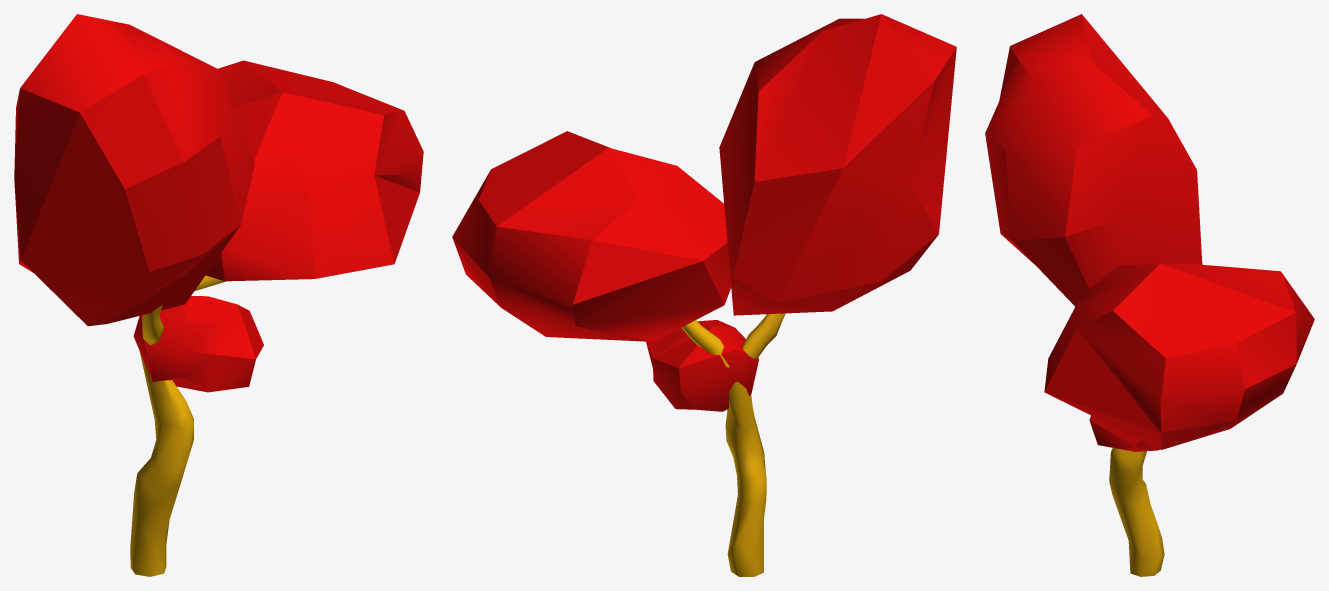
The model's file is Tree_1.fbx.
The picture shows the model from 3 angles, left to right: view 1: azimuth 30°, elevation 25°; view 2: azimuth 150°, elevation 25°; view 3: azimuth 270°, elevation 25°; orthographic projection. The views are drawn at different scales.
Parts seen in each view (by area): view 1: Tree_1; view 2: Tree_1; view 3: Tree_1.
Boxes of the visible parts, x1,y1,x2,y2 form: Tree_1: (14,14,423,576); Tree_1: (452,14,956,576); Tree_1: (985,14,1314,576).
Size of the model in its own units: 7.1 by 9.12 by 5.32.
